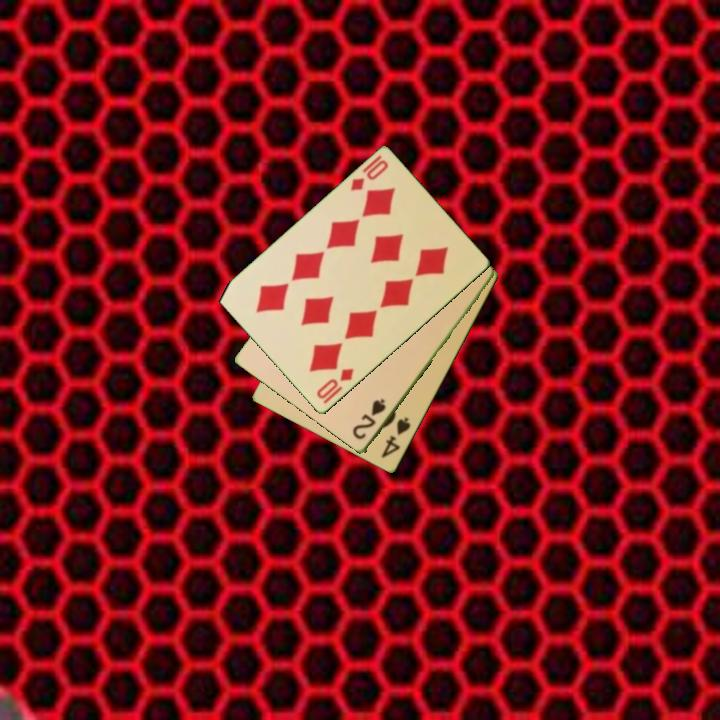10d: (347, 152, 391, 195), (313, 365, 357, 402)
2s: (349, 396, 389, 443)
4s: (377, 414, 414, 461)
